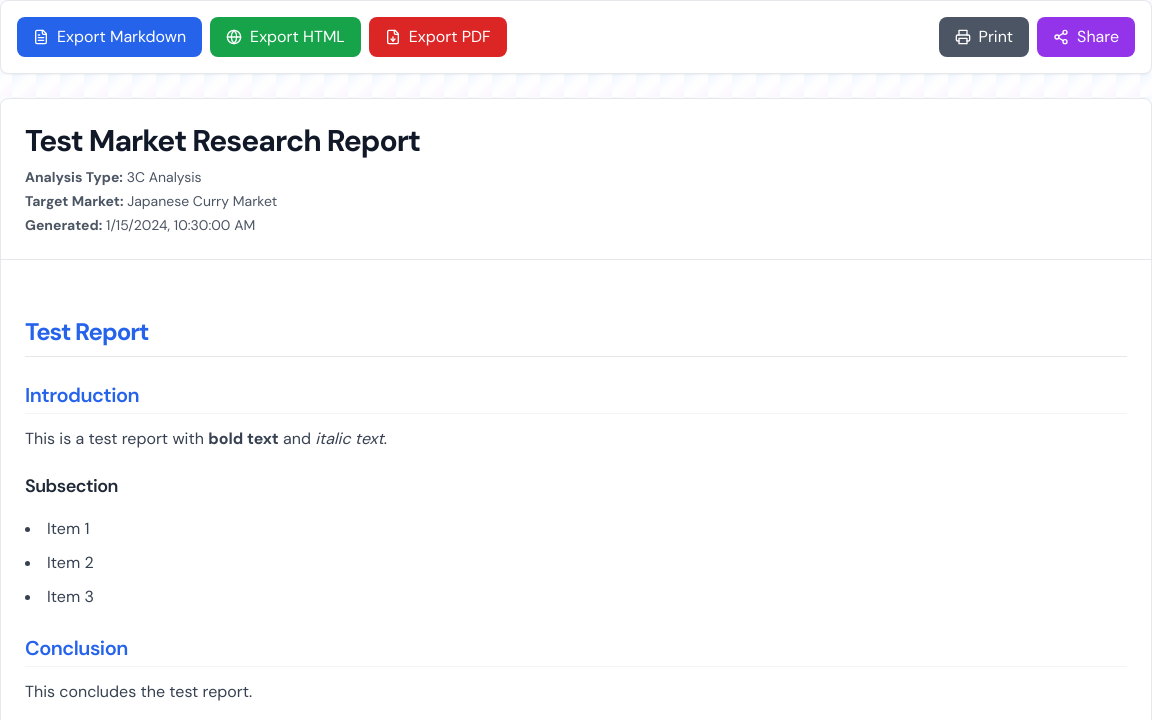
Test: ReportViewer › handles share functionality
Click the button "Share" at (1086, 37), box [1037,17,1135,57]
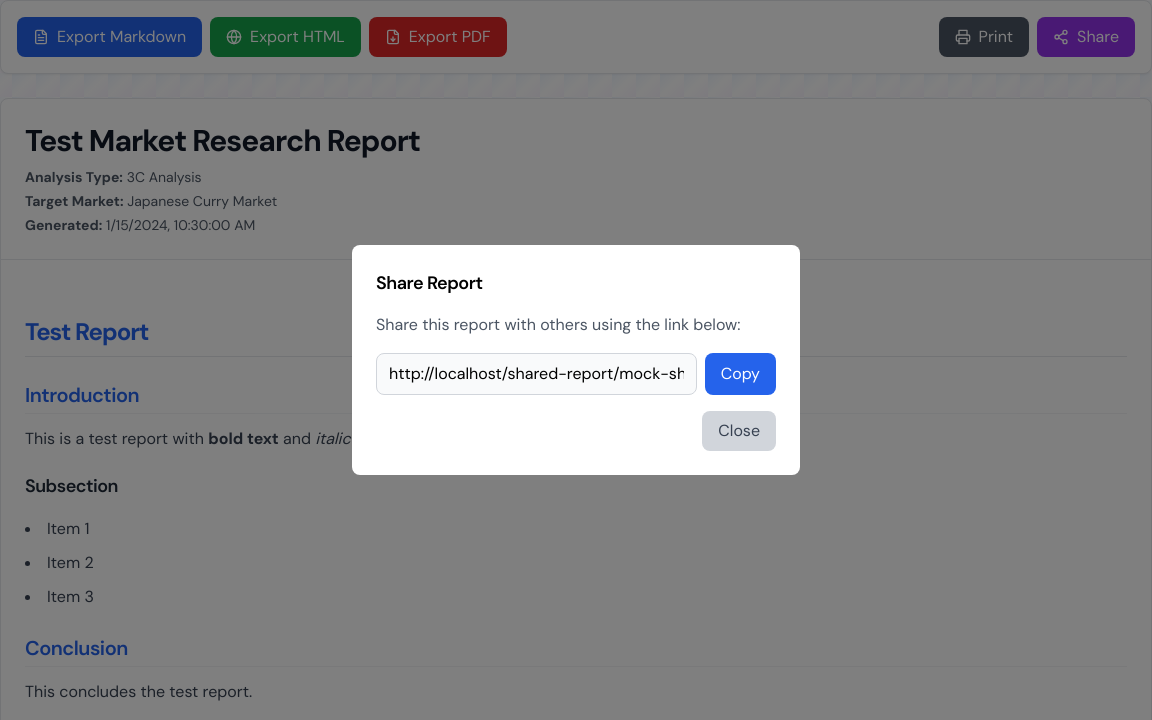
Expected: the heading "Share Report" is shown, [376,271,482,295]
